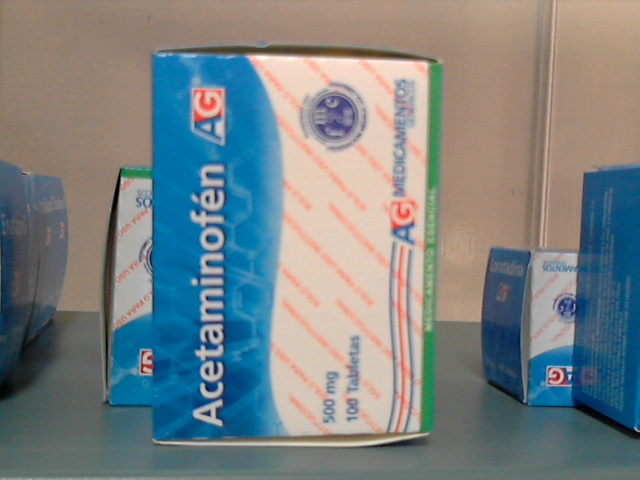AG: (153, 55, 441, 432)
